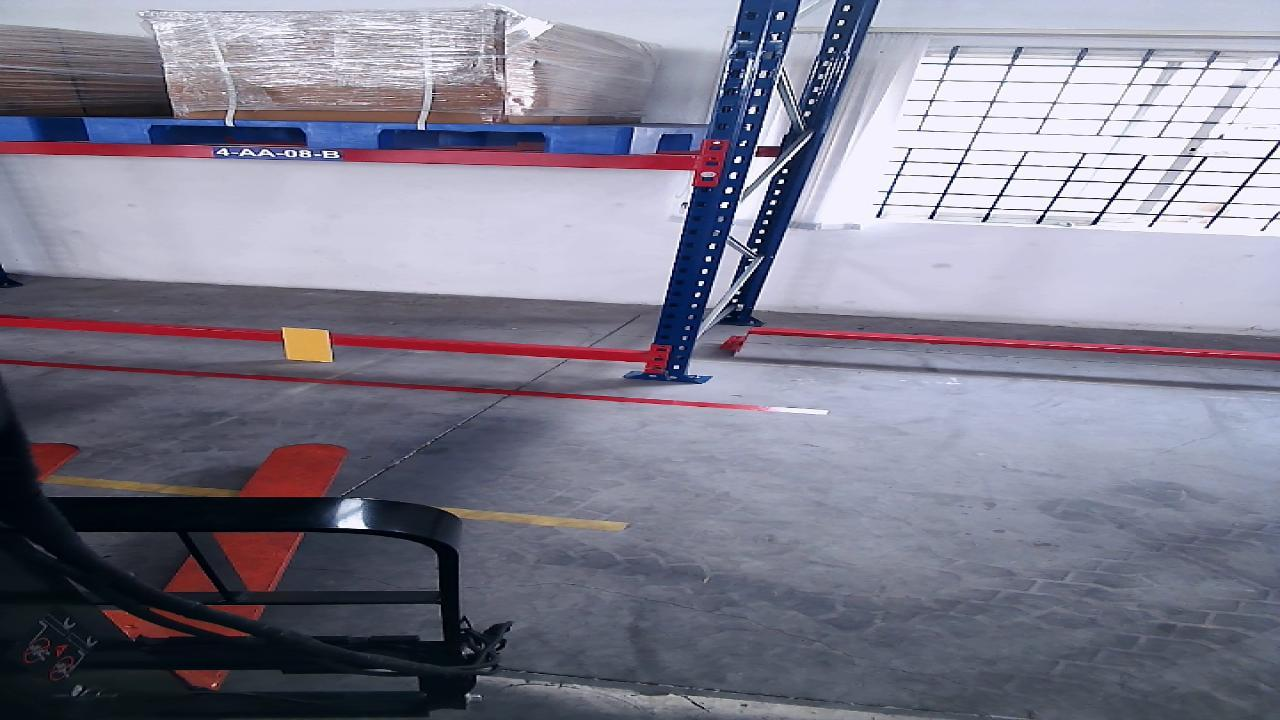h_rack: (2, 317, 644, 361), (0, 142, 692, 170)
orange_strip: (284, 328, 333, 362)
red_line: (0, 358, 824, 415)
small_pallet: (85, 119, 627, 154)
yellow_line: (43, 475, 632, 530)
